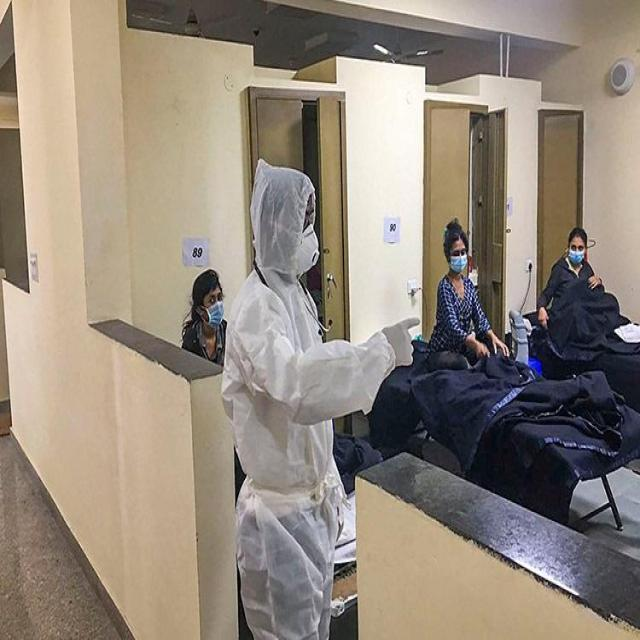Coverall: (199, 139, 367, 624)
Gloves: (369, 296, 425, 364)
Goggles: (282, 197, 330, 229)
Mask: (291, 223, 323, 282), (447, 255, 475, 278), (201, 299, 228, 322), (566, 247, 589, 266)
